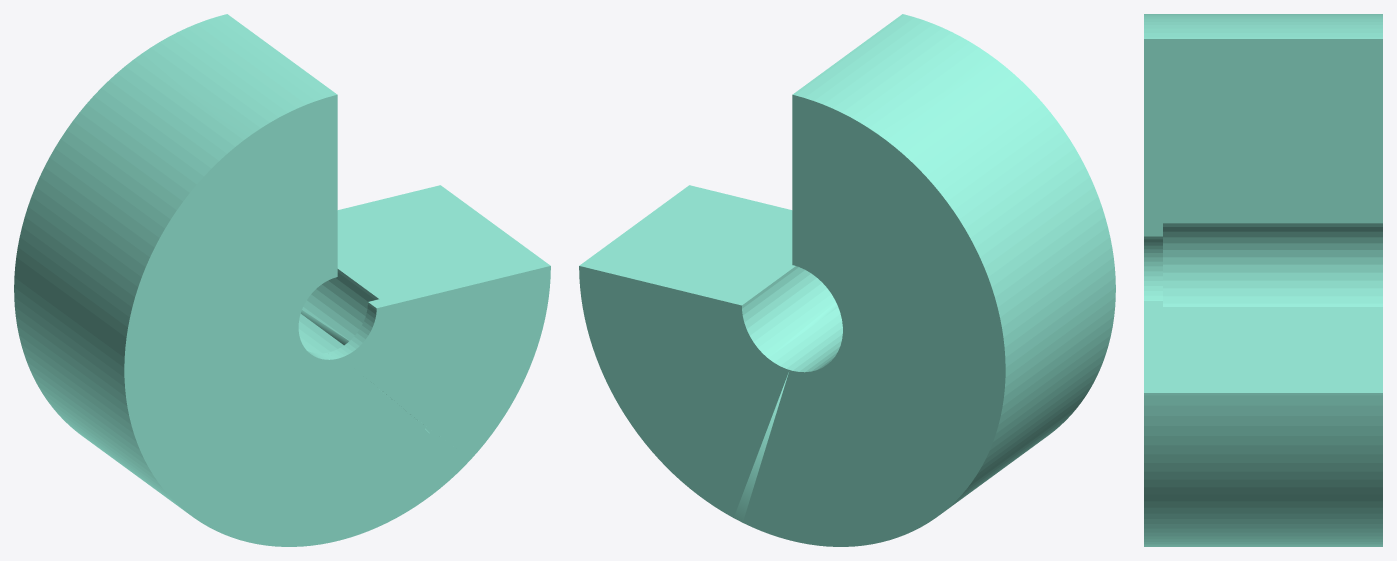
Rendered from Lar-HEC-SideC-cut3.glb.
3 views of the same model, side by side, from view 1: azimuth 30°, elevation 25°; view 2: azimuth 150°, elevation 25°; view 3: azimuth 270°, elevation 25° (orthographic). The views are drawn at different scales.
Parts seen in each view (by area): view 1: null.005; view 2: null.005; view 3: null.005.
Boxes of the visible parts, box(x1,y1,x2,y2) form: null.005: box(14, 14, 550, 546); null.005: box(579, 14, 1115, 546); null.005: box(1144, 14, 1382, 546).
Bounding box in the file's own units: 4.06 × 4.06 × 1.82.
